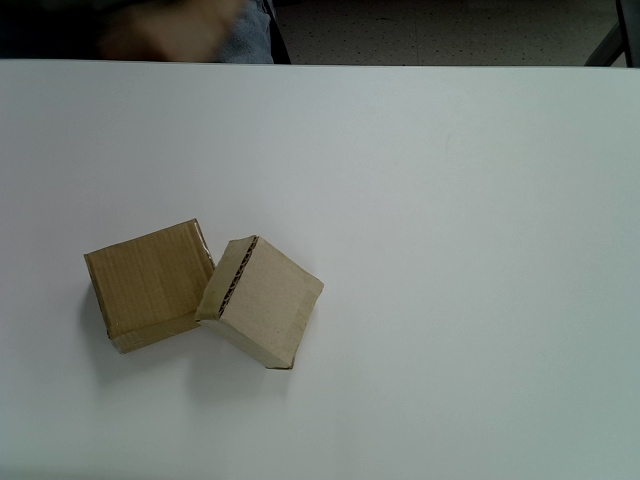normal: (84, 217, 217, 354), (194, 235, 326, 370)
